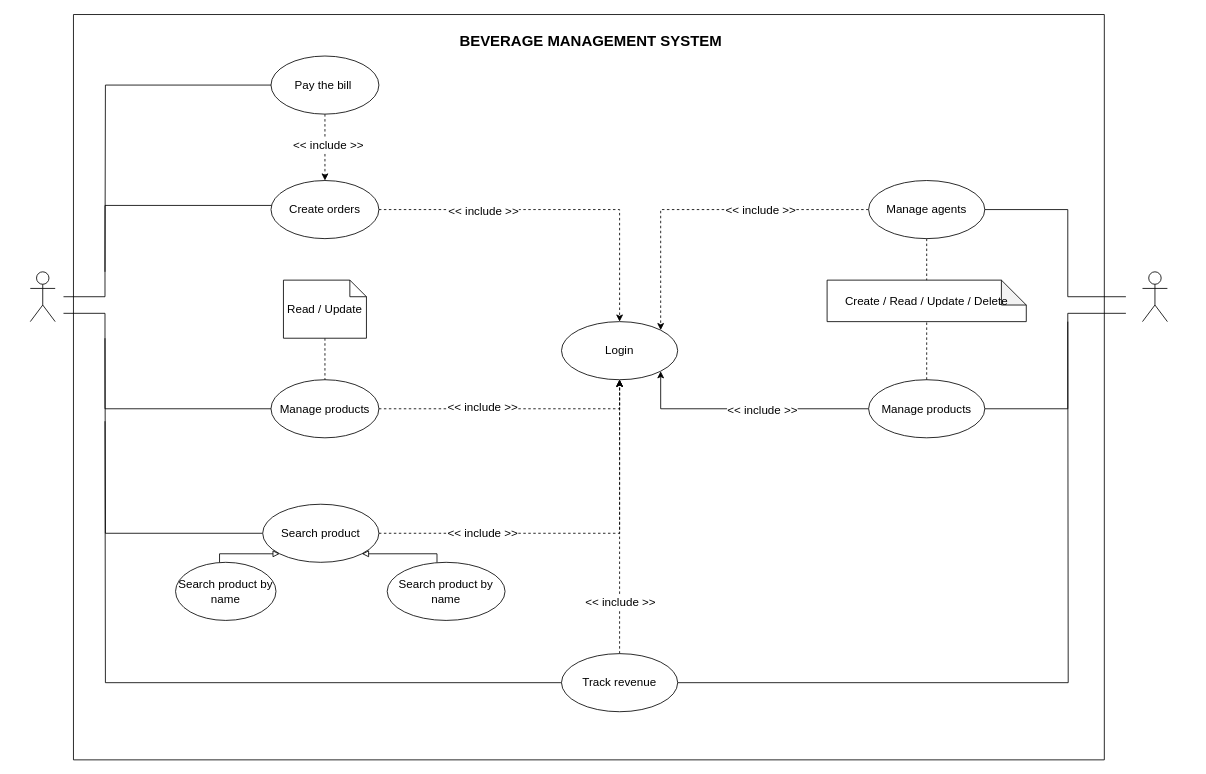
Image size: 1206x774. Some labels were removed from this diagram. The centre of each missing label's shape, as x and y in pixels:
FOUNDER: [1154,296]
SELLER: [42,296]
